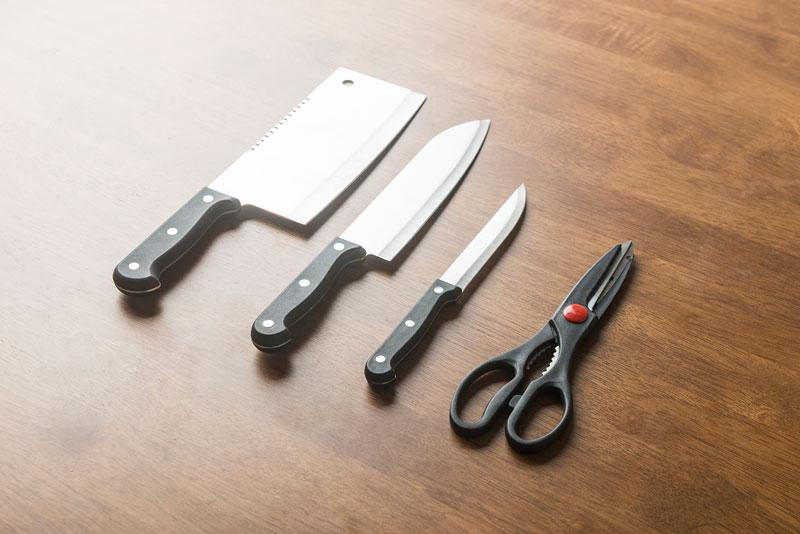knife: (101, 33, 533, 367)
